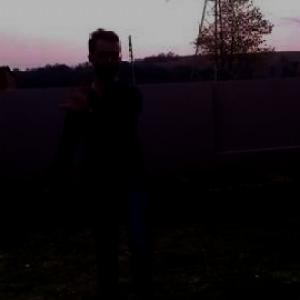follow_hand: (57, 71, 96, 116)
